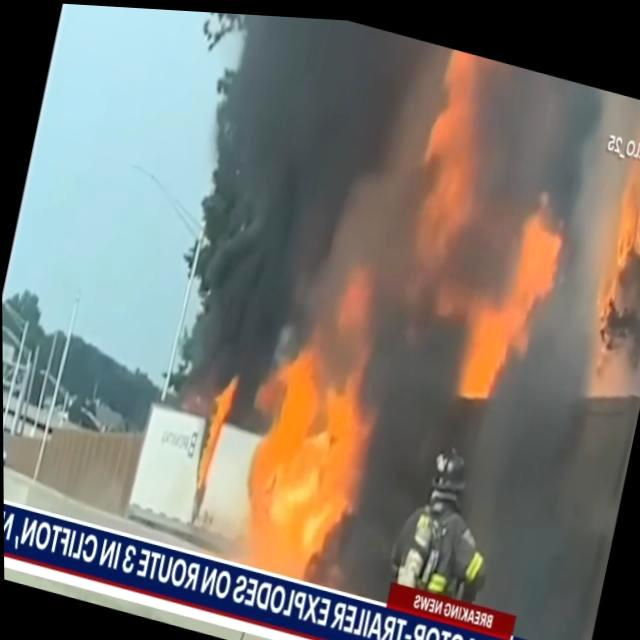fire: (435, 190, 577, 414), (232, 367, 372, 586), (571, 155, 640, 330)
